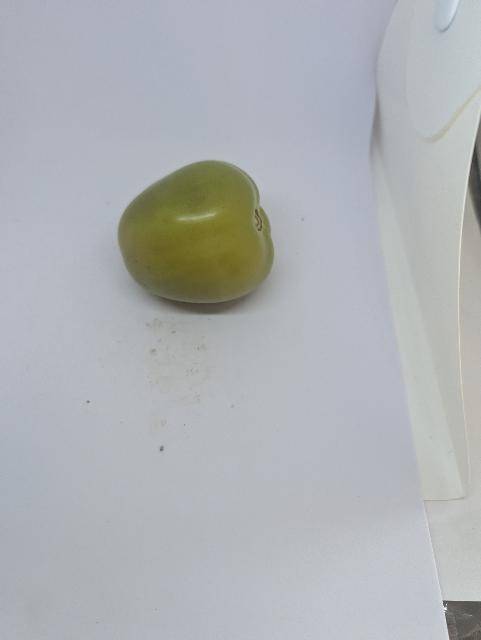green: (96, 147, 296, 325)
